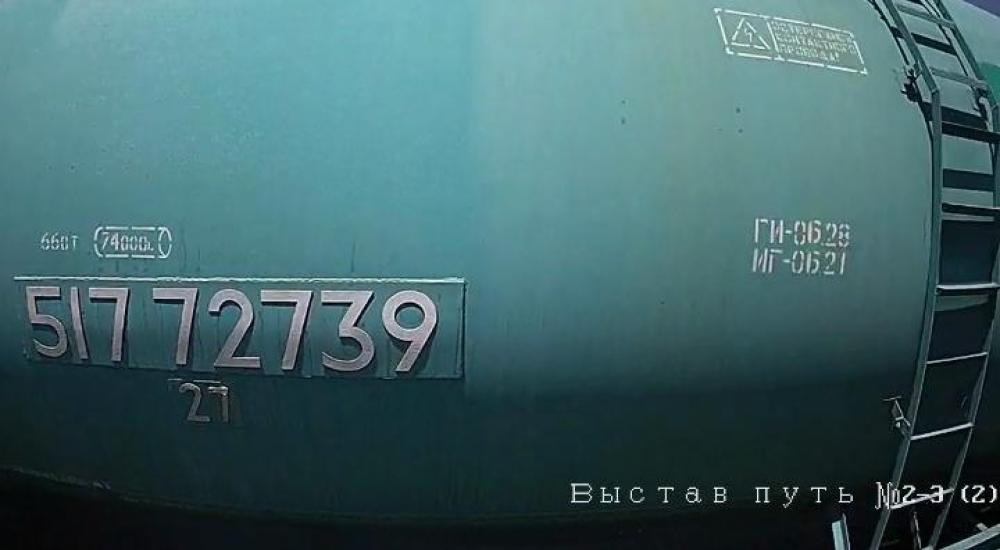Wagon-number: (14, 274, 468, 386)
